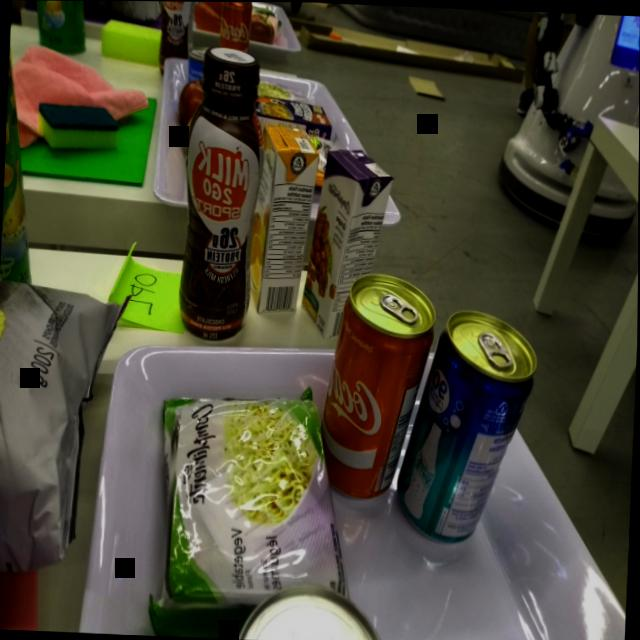cereal: (254, 90, 337, 135)
chocolate_drink: (171, 40, 264, 346)
coke: (313, 270, 441, 504), (216, 1, 253, 49)
grape_juice: (299, 145, 396, 345)
noodles: (149, 375, 358, 640)
orange_juice: (248, 124, 323, 318)
scrubby: (33, 96, 124, 159)
sprite: (390, 302, 541, 552)
